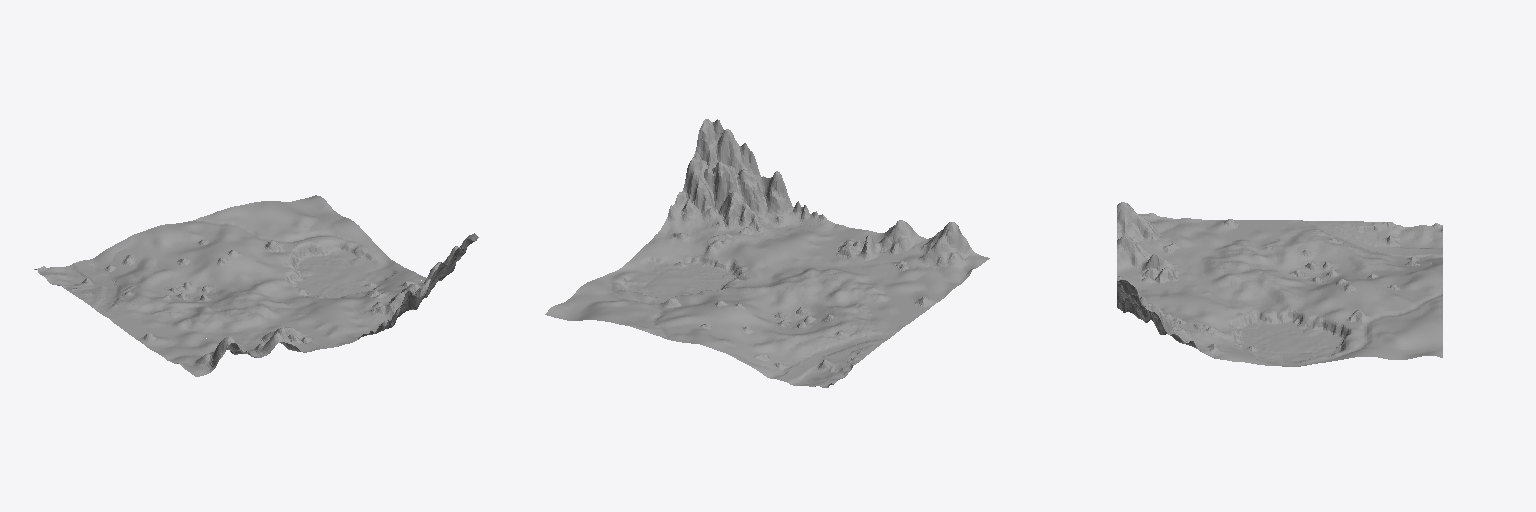
File: Terrain.obj
The picture shows the model from 3 angles: view 1: azimuth 30°, elevation 25°; view 2: azimuth 150°, elevation 25°; view 3: azimuth 270°, elevation 25°; orthographic projection.
Parts seen in each view (by area): view 1: azeroth_35_33; view 2: azeroth_35_33; view 3: azeroth_35_33.
Part boxes in pixels (bbox=[...]): azeroth_35_33: bbox=[34, 195, 478, 376]; azeroth_35_33: bbox=[545, 119, 989, 387]; azeroth_35_33: bbox=[1117, 202, 1442, 366].
Bounding box in the file's own units: 533 × 163 × 533.